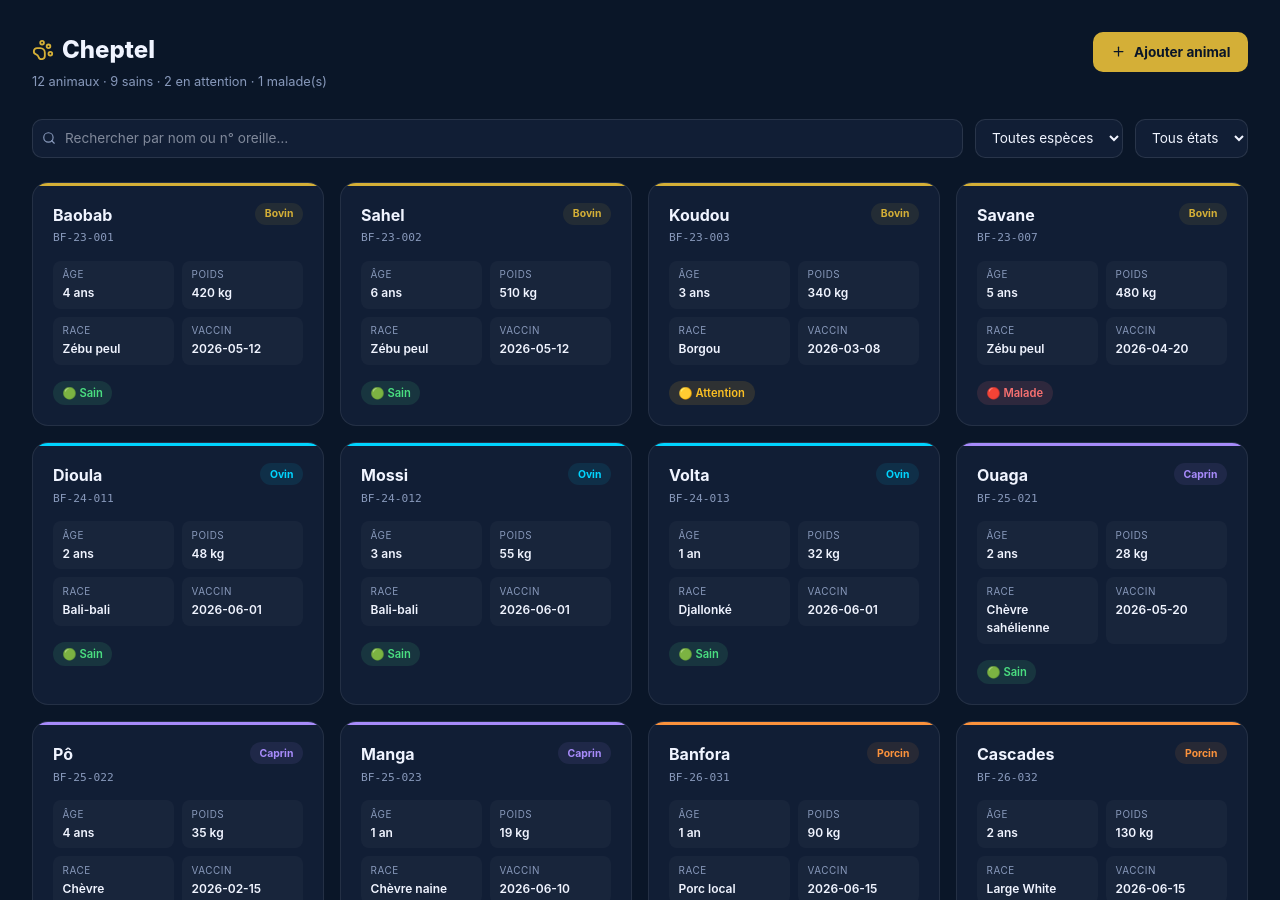
Test: AnimauxPage › opens the add-animal modal when clicking "Ajouter animal"
The width and height of the screenshot is (1280, 900).
Click the button "Ajouter animal": (1171, 52) [1094,32,1248,72]
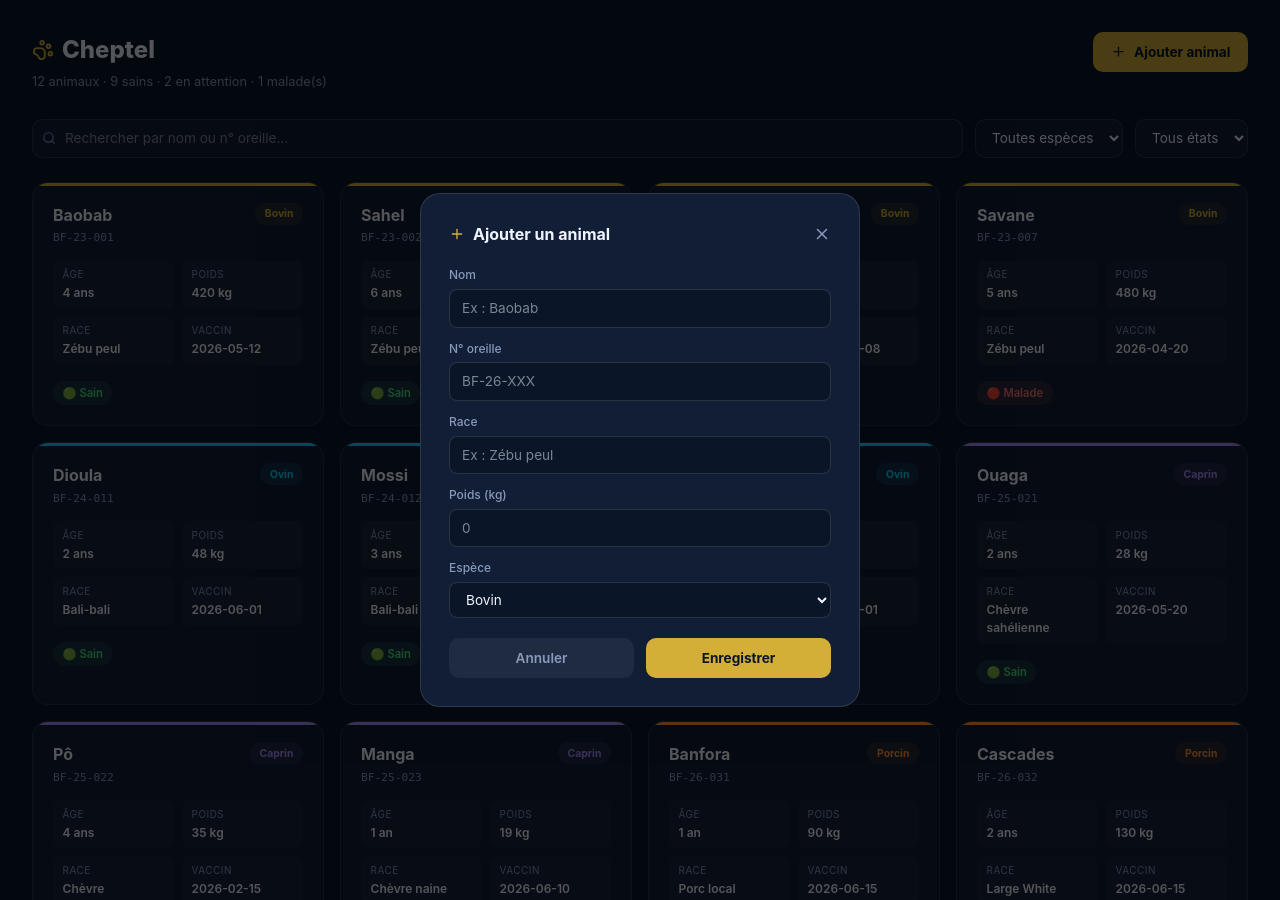
Result: the heading "Ajouter un animal" is shown at [449,222,610,246]
